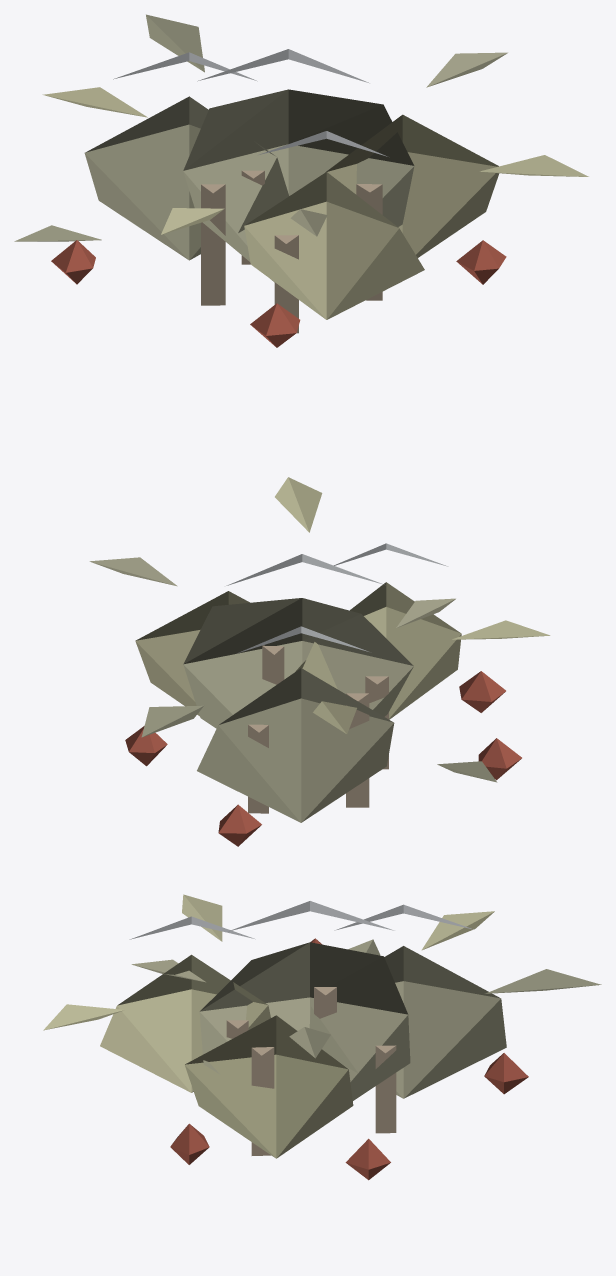
Rendered from guan.aili@fruiting__winter.glb.
3 views of the same model, one above another, from view 1: azimuth 30°, elevation 25°; view 2: azimuth 150°, elevation 25°; view 3: azimuth 270°, elevation 25° (orthographic). The views are drawn at different scales.
Parts seen in each view (by area): view 1: guan.aili@fruiting__winter; view 2: guan.aili@fruiting__winter; view 3: guan.aili@fruiting__winter.
Boxes of the visible parts, bbox=[...] form: guan.aili@fruiting__winter: bbox=[14, 14, 588, 347]; guan.aili@fruiting__winter: bbox=[89, 477, 550, 846]; guan.aili@fruiting__winter: bbox=[43, 894, 601, 1180].
Size of the model in its own units: 2.38 by 1.07 by 2.44.
